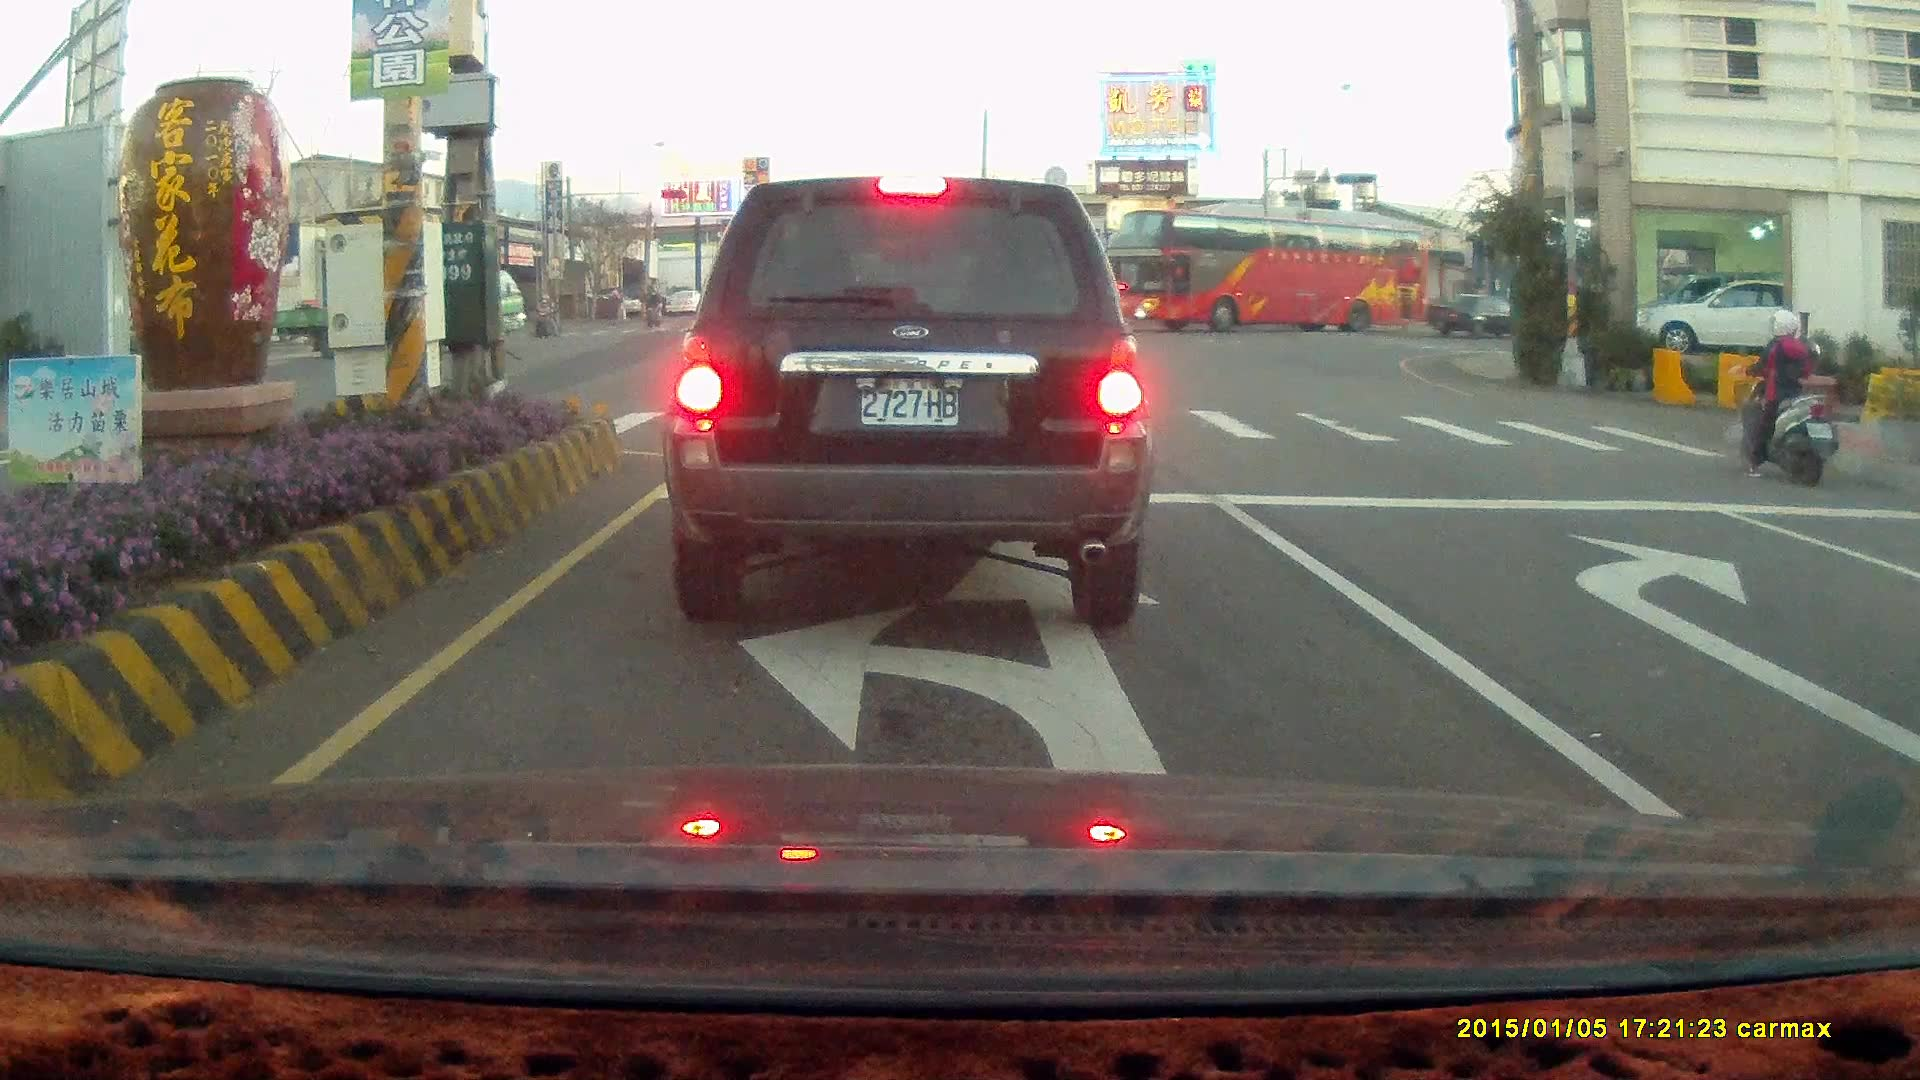rider: (1727, 306, 1839, 486), (532, 290, 559, 338), (642, 289, 663, 326)
vehicle: (660, 173, 1154, 630), (1108, 217, 1436, 335), (1623, 275, 1832, 354), (1642, 275, 1784, 356), (1896, 493, 1920, 836), (1422, 290, 1547, 342), (1883, 528, 1920, 690)
